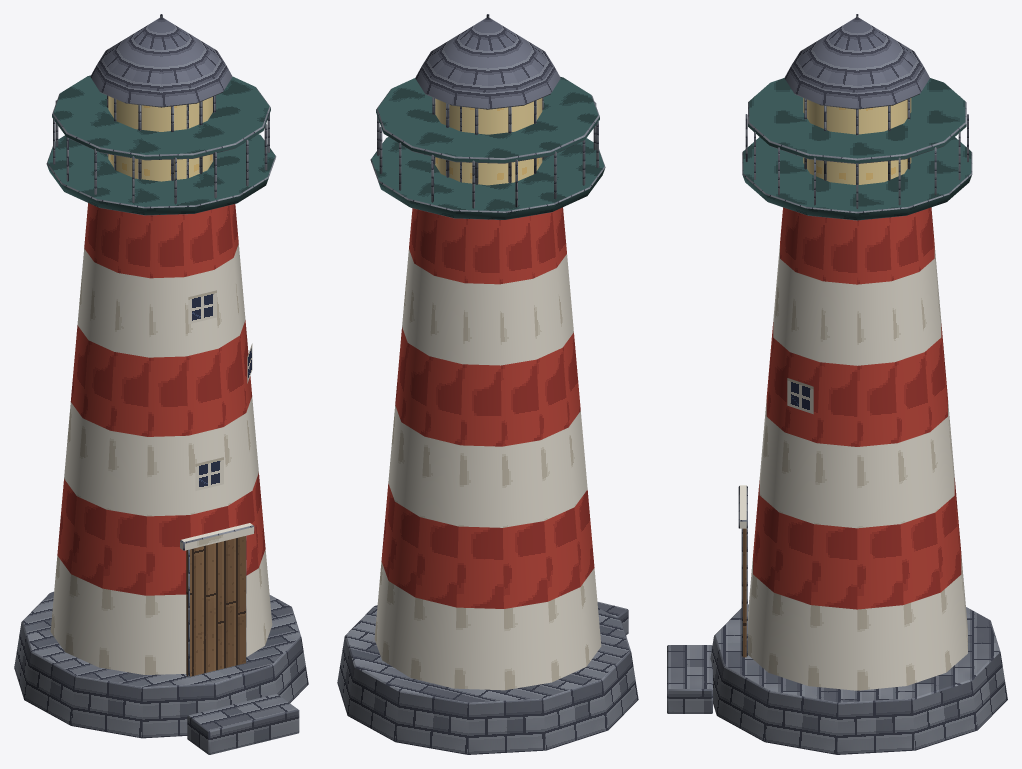
File: lighthouse_2.glb
The picture shows the model from 3 angles, left to right: view 1: azimuth 30°, elevation 25°; view 2: azimuth 150°, elevation 25°; view 3: azimuth 270°, elevation 25°; orthographic projection. The views are drawn at different scales.
Visible parts, largest first — view 1: lighthouse_3; view 2: lighthouse_3; view 3: lighthouse_3.
Part boxes in pixels (x1,y1,x2,y2): lighthouse_3: (14,14,308,754); lighthouse_3: (337,14,638,754); lighthouse_3: (667,14,1007,754).
Bounding box in the file's own units: 3.94 × 9.76 × 4.46.
Materials: 10 (10 with a texture image).
